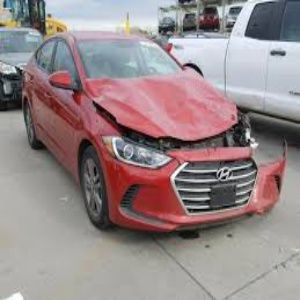bonnet: (107, 80, 241, 141)
bumper: (199, 138, 294, 223)
